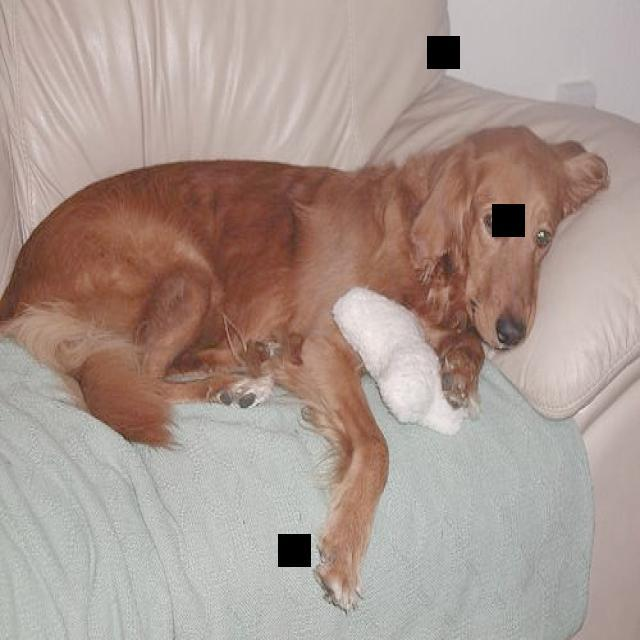adult_dog: (1, 113, 612, 613)
